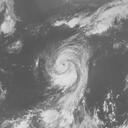cyclone: (45, 36, 89, 95)
